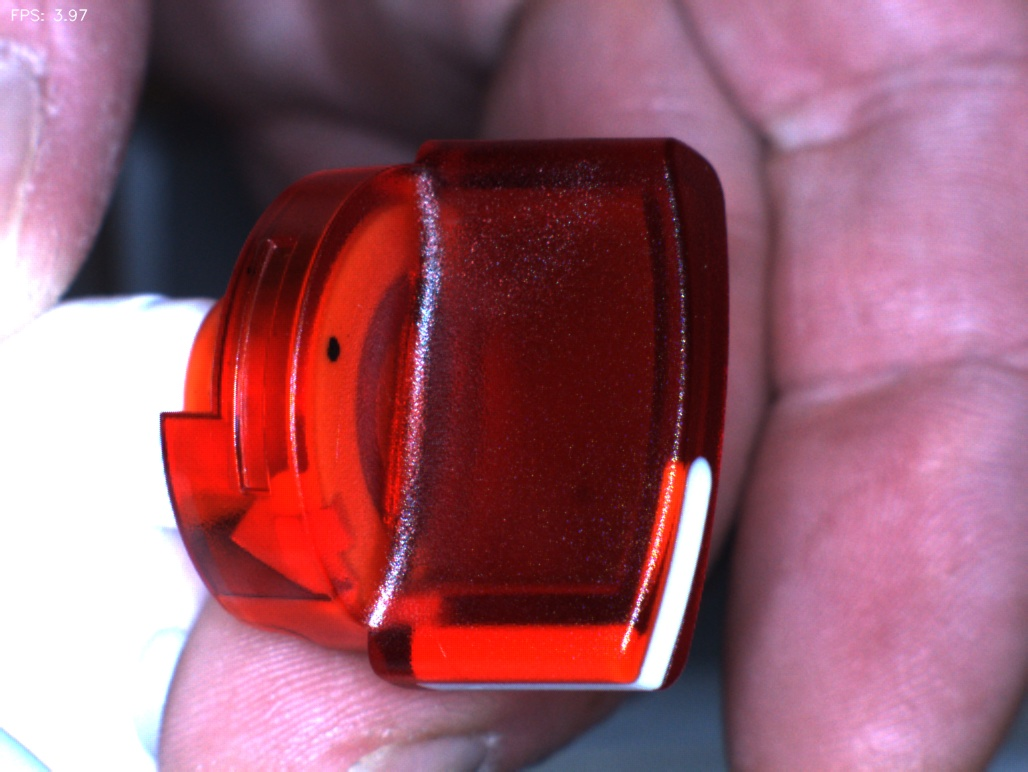PointNoir: (302, 305, 369, 384)
